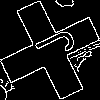J: (25, 25, 77, 68)
